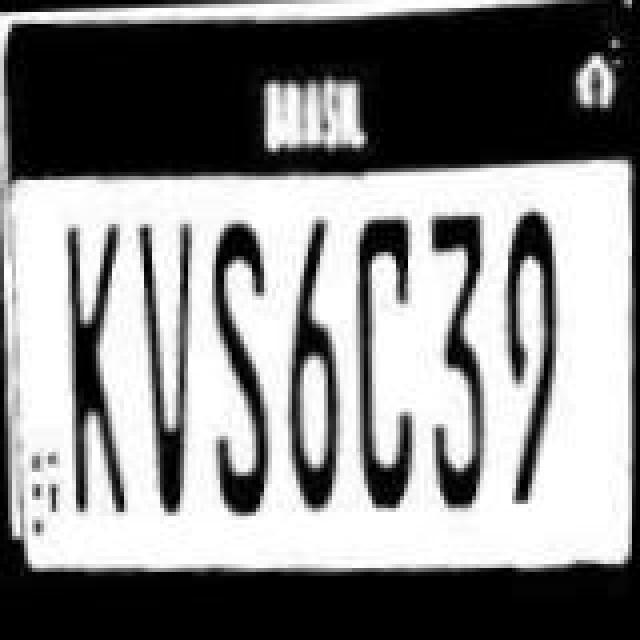3: (416, 210, 500, 530)
6: (274, 210, 362, 522)
9: (486, 202, 574, 518)
C: (350, 214, 430, 530)
K: (48, 204, 140, 516)
S: (198, 206, 286, 514)
V: (132, 206, 208, 522)
